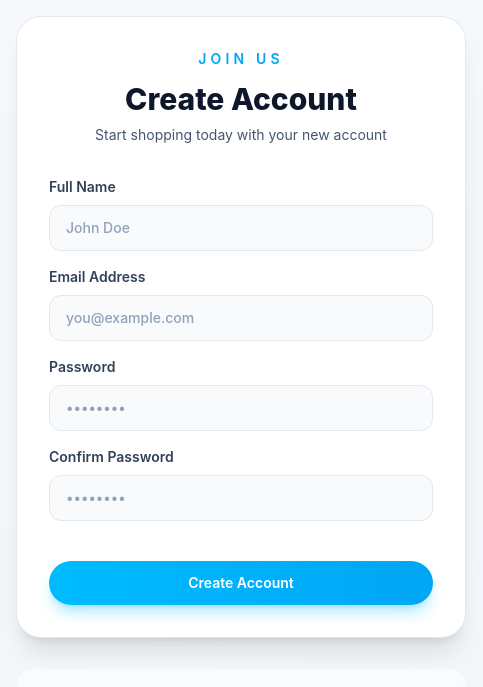
Test case: Register component › shows validation errors when form fields are invalid
This screenshot has width=483, height=687.
Click the button "Create Account" at (241,583), box x1=49 y1=561 x2=433 y2=605
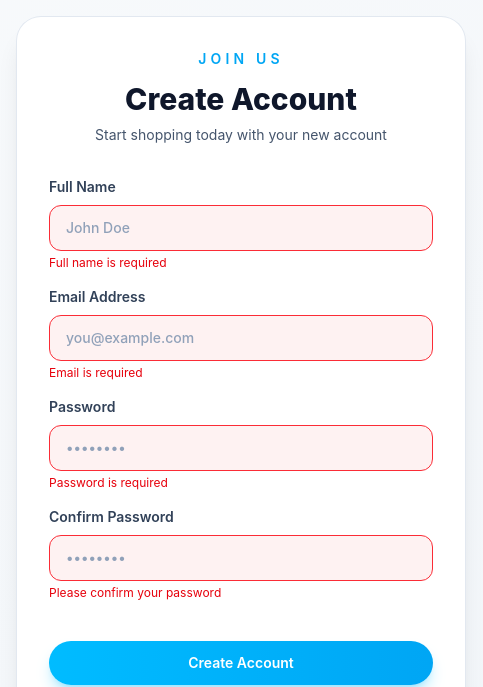
Expected: the text "Full name is required" is shown, x1=49 y1=255 x2=167 y2=270
Expected: the text "Email is required" is shown, x1=49 y1=365 x2=143 y2=380
